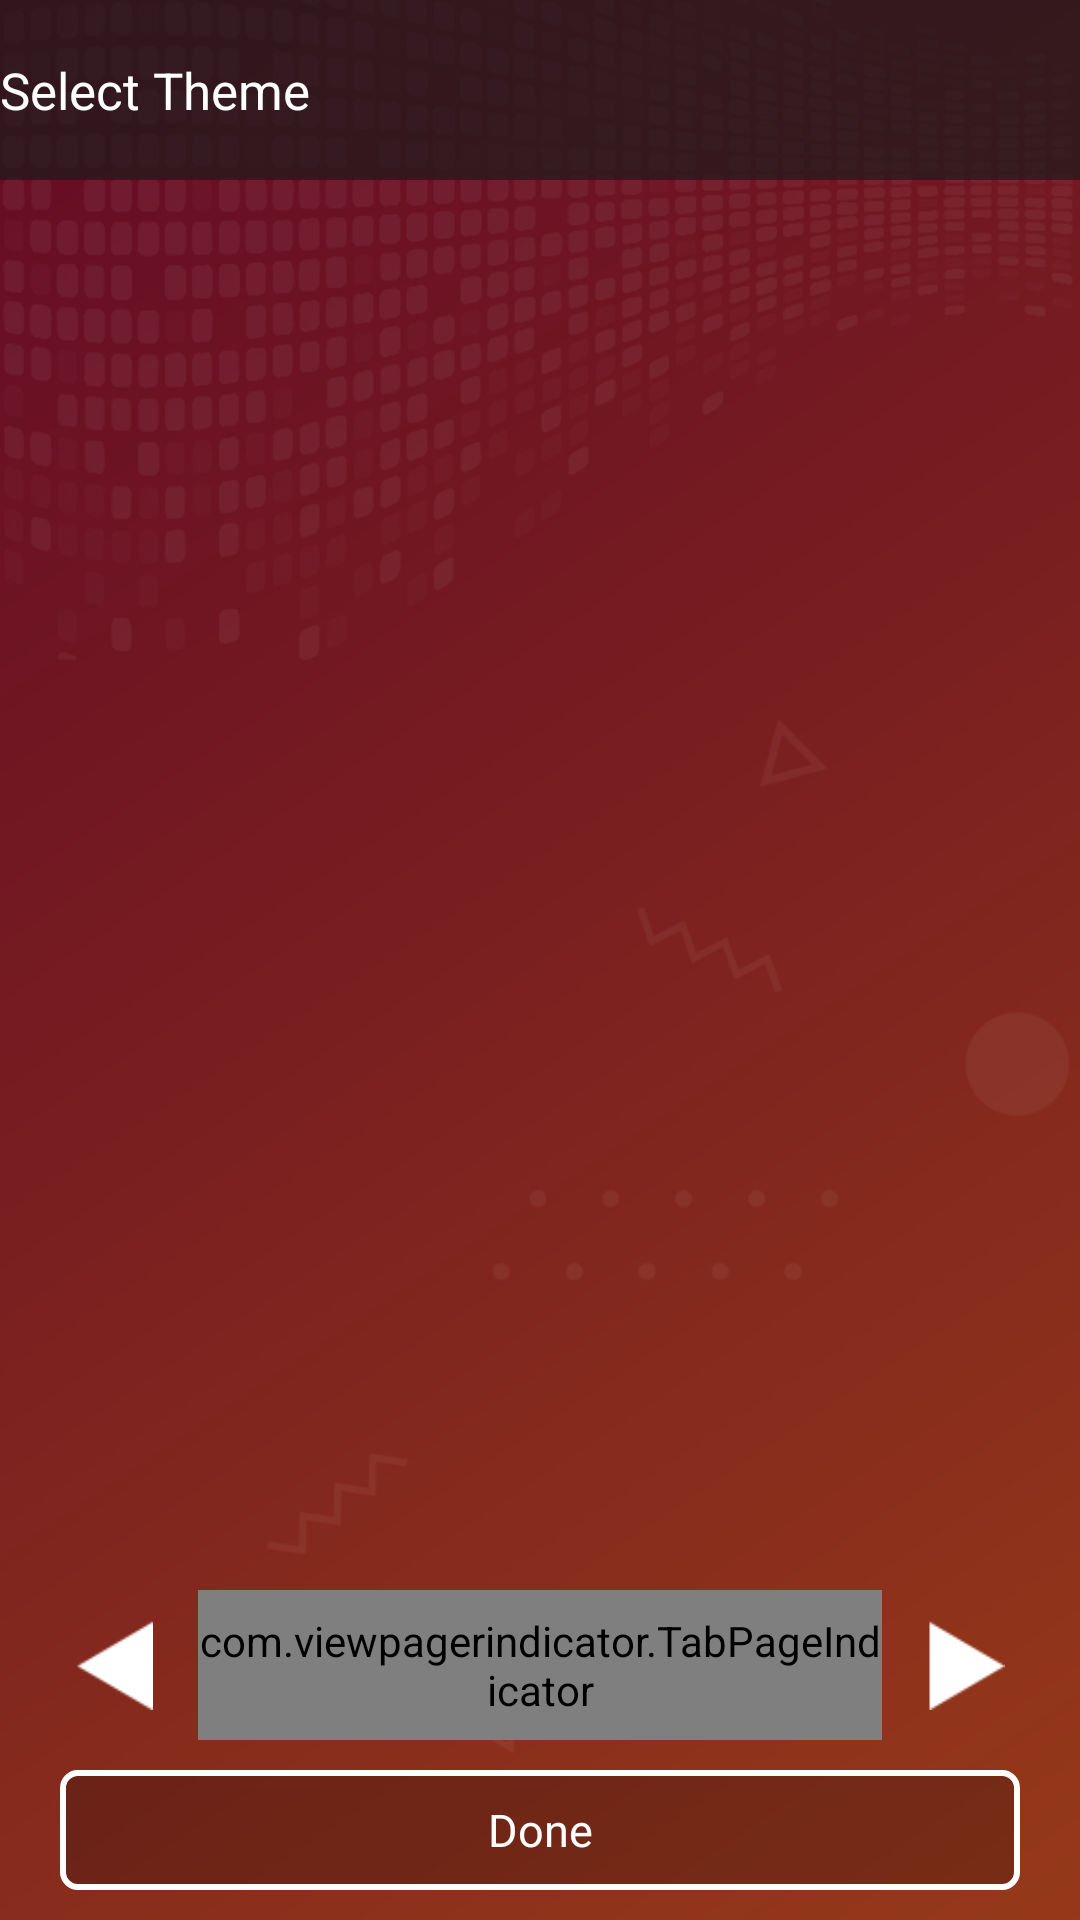

Icons on this 1080px x 1920px Android screen, each with the point to tap as (x,y):
backmy: (115,1665)
nextmy: (967,1665)
